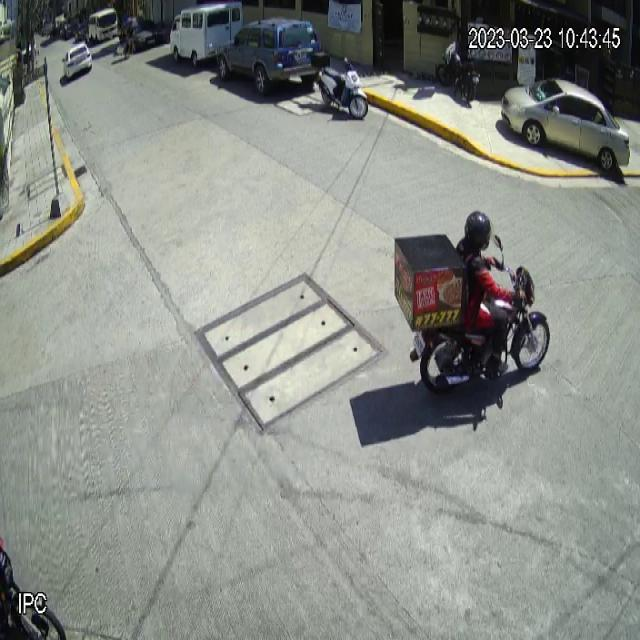Car: (501, 78, 630, 171), (216, 16, 323, 96)
Motorcycle: (393, 234, 550, 395), (312, 54, 368, 120)
Van: (169, 0, 242, 69)
